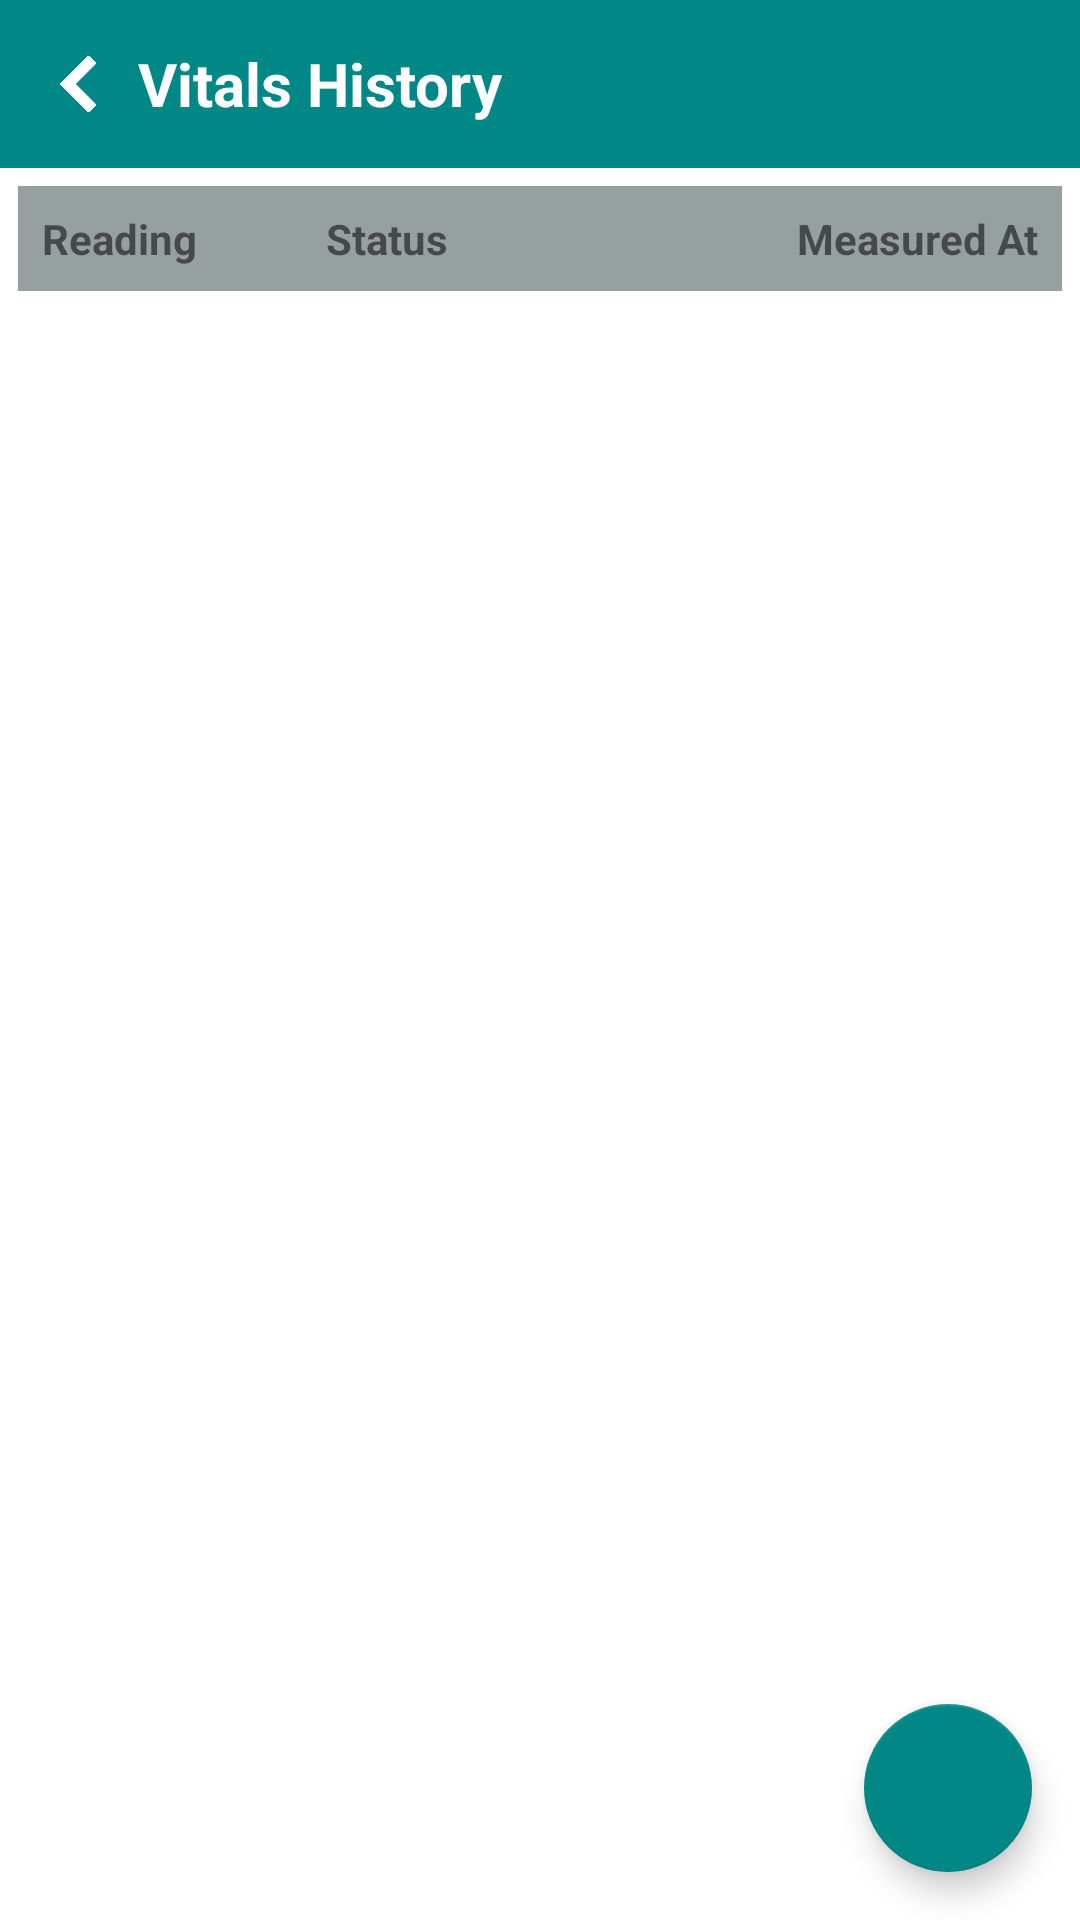

Where icons sit on this 1080 x 1920 app screen, as box(x1, y1, x2, y2):
Back Button: box(60, 56, 96, 112)
